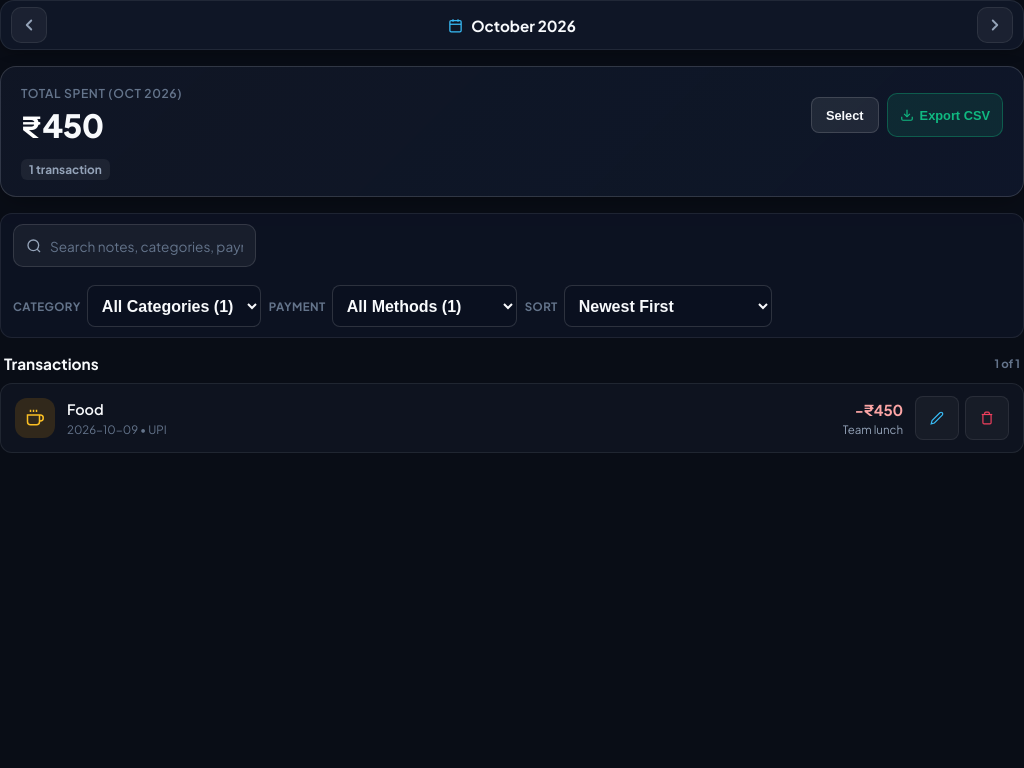
Scenario: ExpensesView delete confirmation behavior › opens confirmation modal with expense details when delete button is clicked
The width and height of the screenshot is (1024, 768).
Click the button with class "delete".
click(987, 418)  # box [965,396,1009,440]
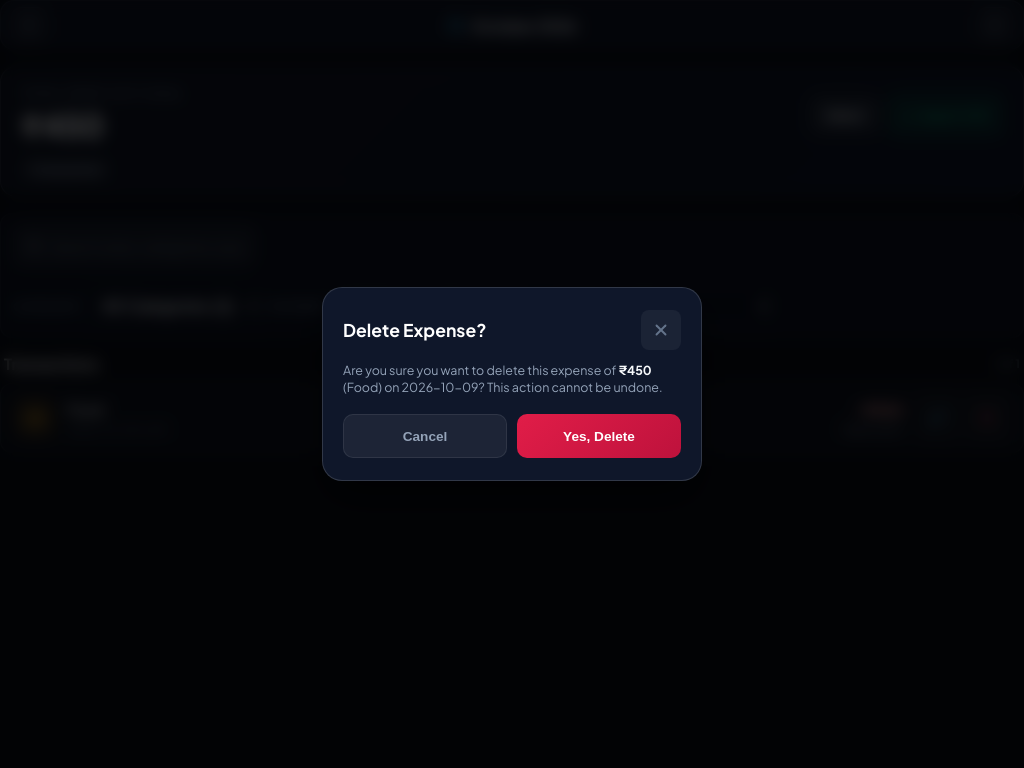
Now the element with class "modal-backdrop" is shown
Now the heading with class "modal-title" reads "Delete Expense?", box [343,318,486,340]
Now the element with class "modal-desc" shows "₹450", box [343,362,681,396]
